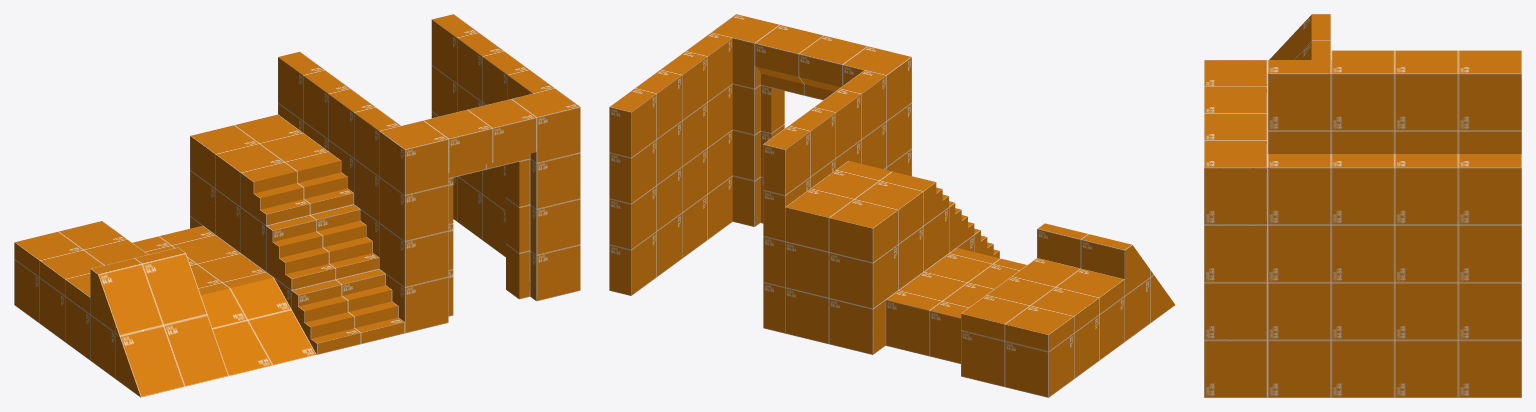
File: prototype.obj
The picture shows the model from 3 angles, left to right: view 1: azimuth 30°, elevation 25°; view 2: azimuth 150°, elevation 25°; view 3: azimuth 270°, elevation 25°; orthographic projection. The views are drawn at different scales.
Visible parts, largest first — view 1: Cube, Cube.001, Cube.003, Cube.002; view 2: Cube, Cube.003, Cube.001, Cube.002; view 3: Cube.003, Cube.002, Cube.001, Cube.
Part boxes in pixels (box(x1,y1,x2,y2)): Cube: box(14, 114, 404, 397); Cube.001: box(379, 88, 580, 333); Cube.003: box(431, 14, 554, 257); Cube.002: box(278, 51, 400, 256); Cube: box(785, 161, 1175, 397); Cube.003: box(609, 32, 732, 295); Cube.001: box(711, 14, 911, 226); Cube.002: box(763, 70, 886, 333); Cube.003: box(1267, 154, 1521, 397); Cube.002: box(1267, 60, 1521, 153); Cube.001: box(1204, 60, 1267, 397); Cube: box(1269, 14, 1521, 59).
Size of the model in its own units: 10 by 4 by 5.
